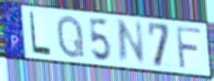5: (87, 15, 113, 63)
7: (147, 21, 172, 70)
F: (174, 24, 203, 71)
L: (28, 10, 52, 58)
N: (116, 19, 147, 65)
Q: (56, 14, 87, 60)
